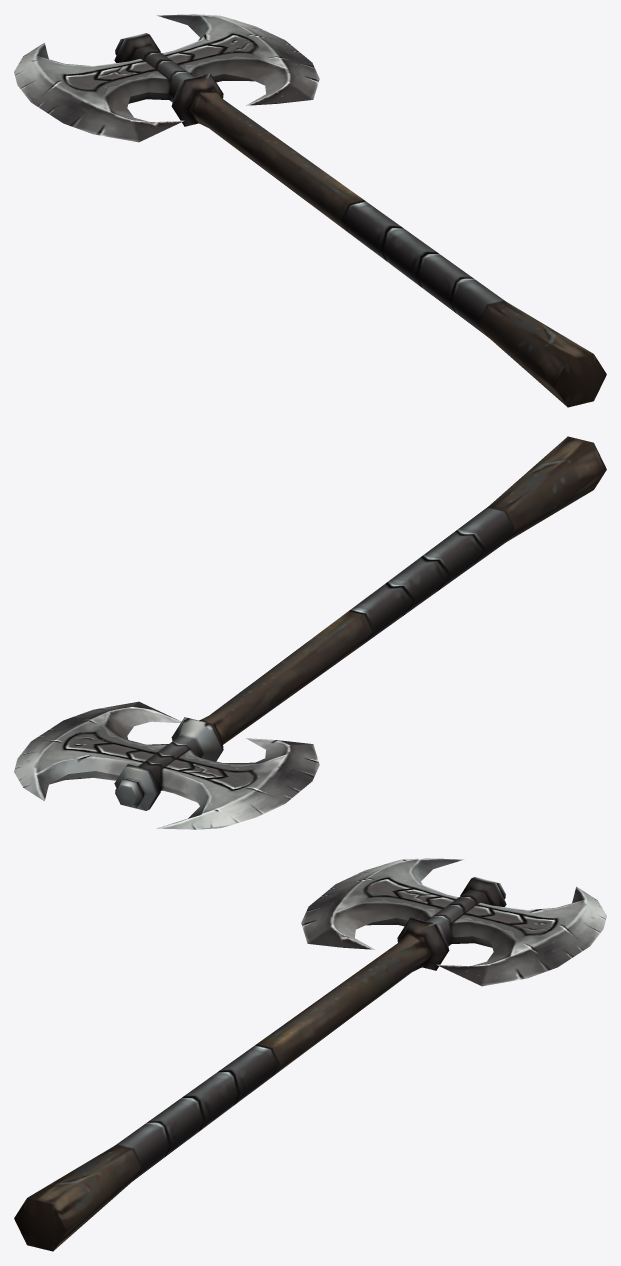
The model's file is Axe_03.fbx.
3 renders of one model, top to bottom at view 1: azimuth 30°, elevation 25°; view 2: azimuth 150°, elevation 25°; view 3: azimuth 330°, elevation 25°, orthographic.
Visible parts, largest first — view 1: Axe_03_El1, Axe_03_E2; view 2: Axe_03_El1, Axe_03_E2; view 3: Axe_03_El1, Axe_03_E2.
Boxes of the visible parts, left/top/right/bottom form: Axe_03_El1: left=14, top=14, right=319, bottom=142; Axe_03_E2: left=190, top=90, right=606, bottom=407; Axe_03_El1: left=14, top=701, right=319, bottom=829; Axe_03_E2: left=199, top=436, right=606, bottom=744; Axe_03_El1: left=301, top=858, right=606, bottom=986; Axe_03_E2: left=14, top=934, right=430, bottom=1251.
Size of the model in its own units: 0.5182 by 0.0919 by 1.71.
